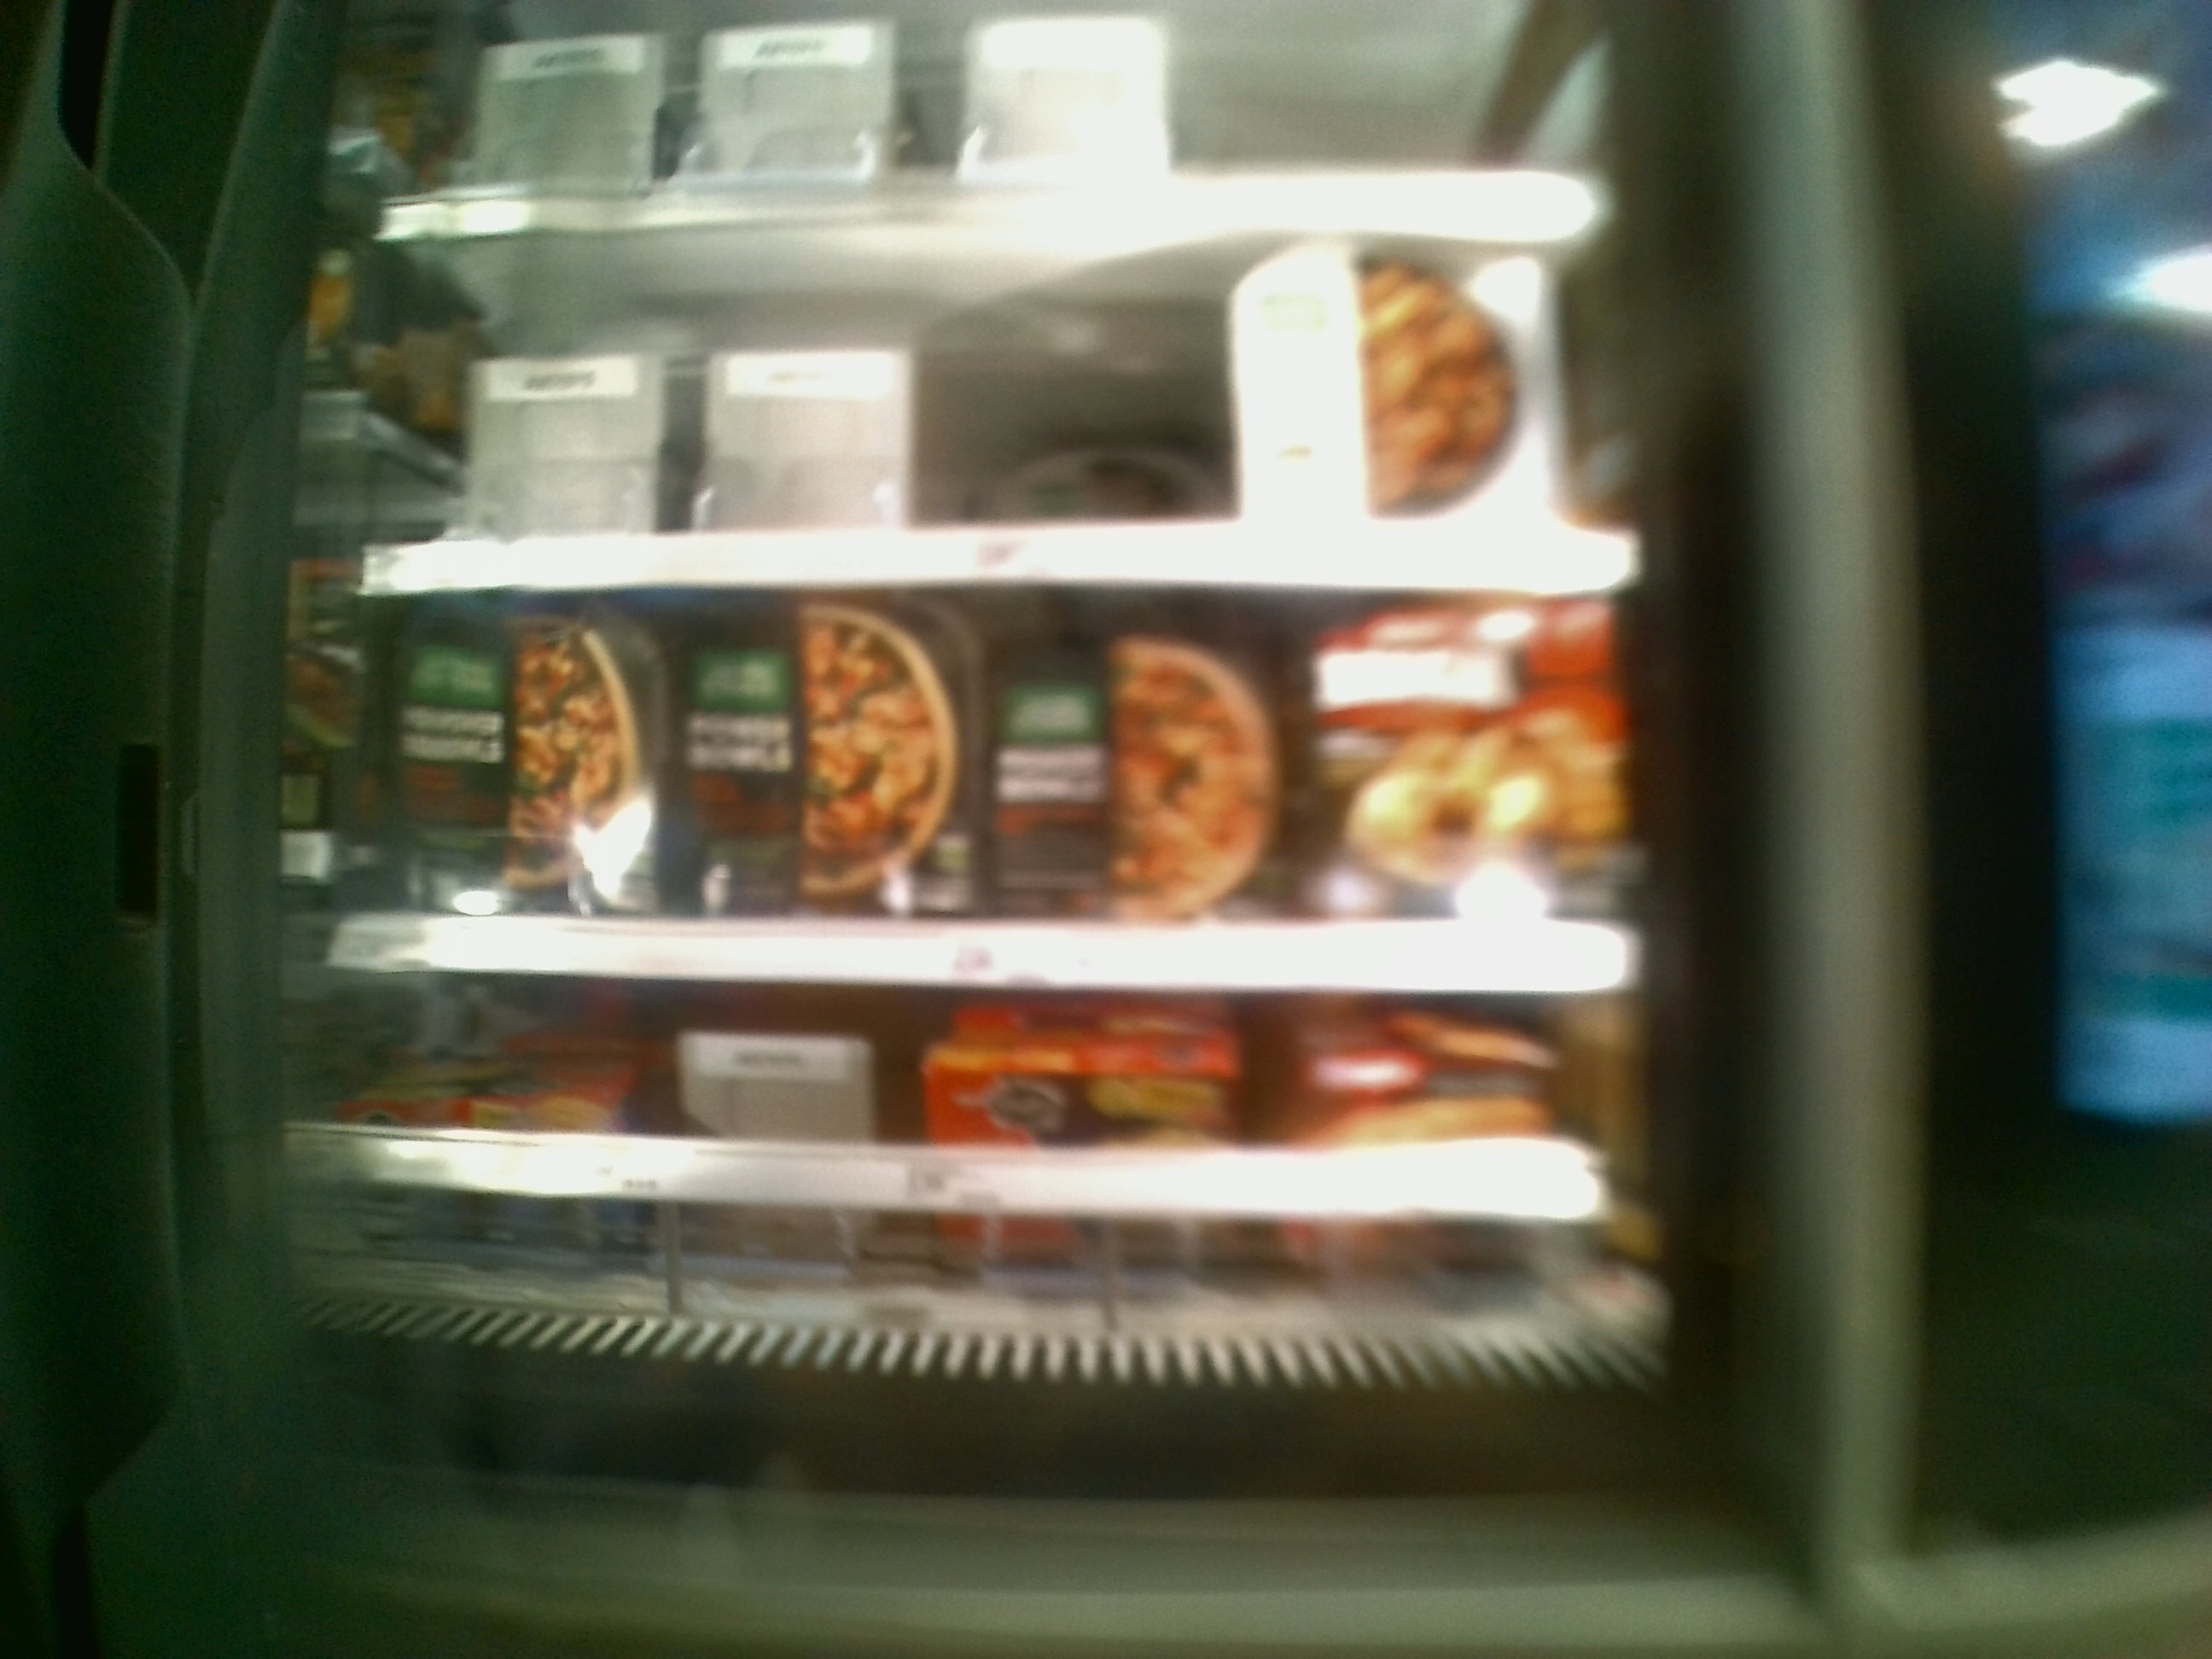shelf: (310, 967, 1656, 1368), (361, 598, 1639, 993), (364, 234, 1627, 592)
